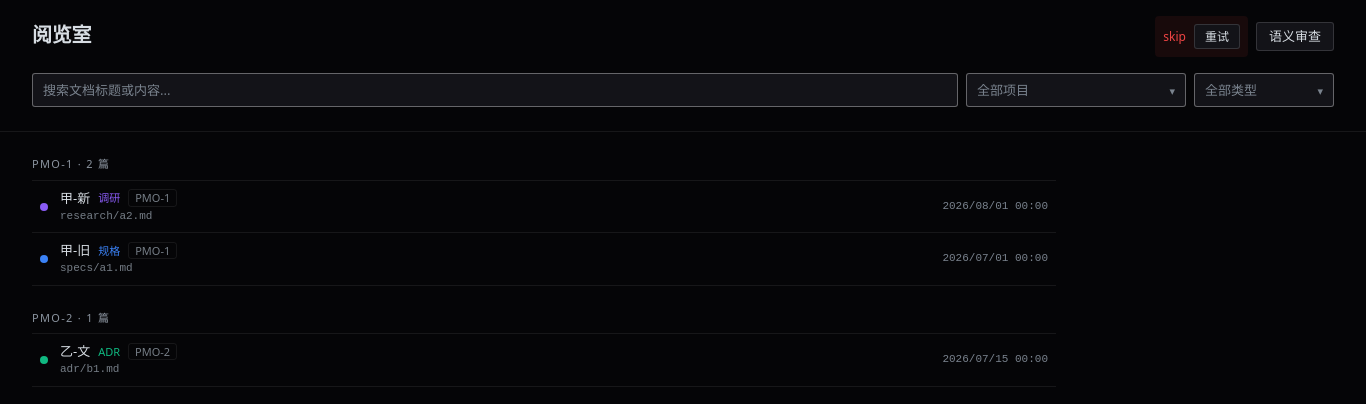
it: LibraryPage（#155 T5 阅览室） › E6 列表按项目分组 › 搜索态回退平铺：无组头
Check: the text "甲-新" is shown, box [60,189,90,207]
Type "规格" into the field with placeholder "搜索文档标题或内容...".
click(495, 90); type("规格")  # box [32,73,958,107]
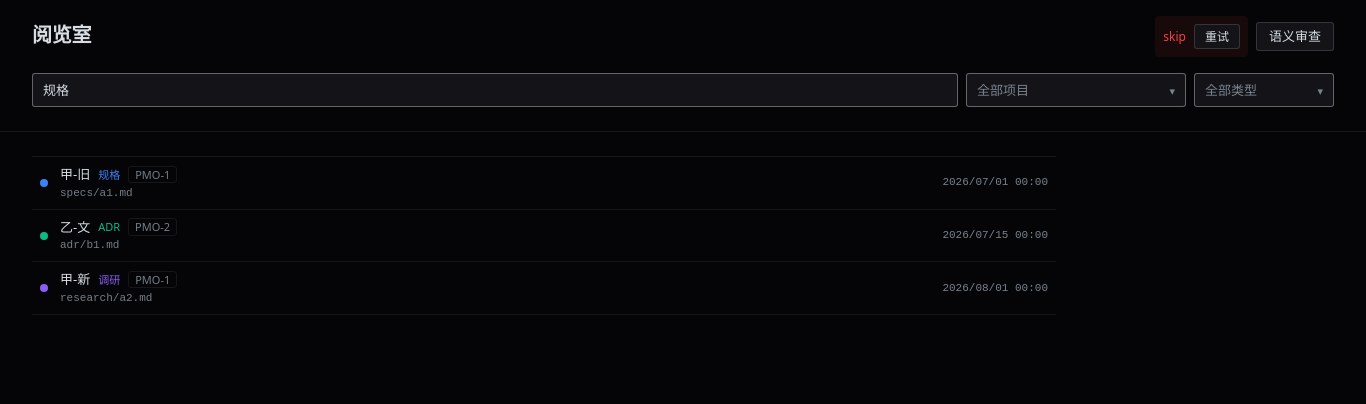
Check: the heading "PMO-1 · 2 篇" is gone
Check: the text "甲-新" is shown, box [60,270,90,289]
Check: the text "乙-文" is shown, box [60,218,90,236]
